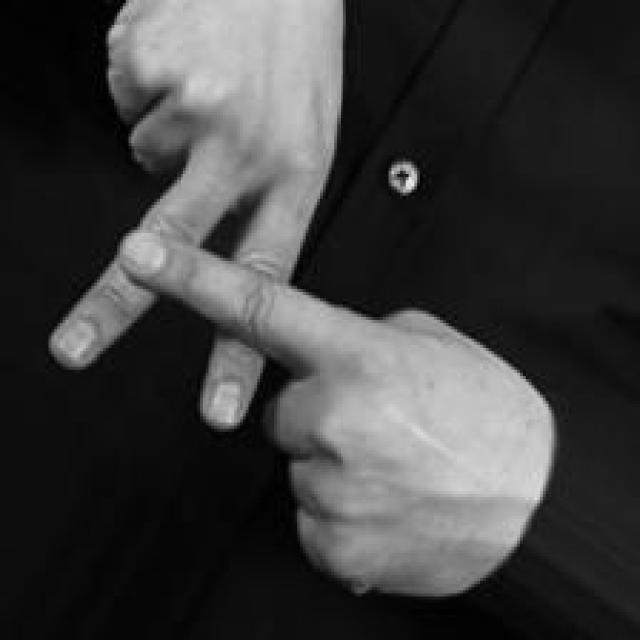A: (47, 2, 550, 600)
